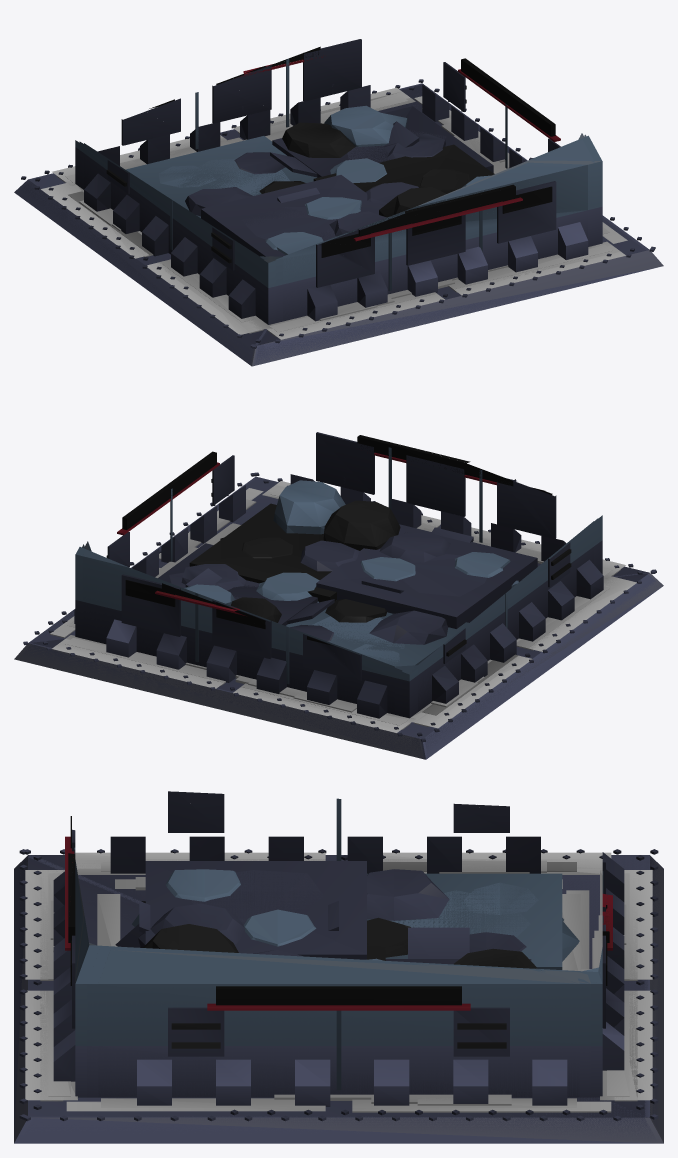
Rendered from veyran_fortified_bunker_heavily_damaged.glb.
The picture shows the model from 3 angles, top to bottom: view 1: azimuth 30°, elevation 25°; view 2: azimuth 150°, elevation 25°; view 3: azimuth 270°, elevation 25°; orthographic projection. The views are drawn at different scales.
Visible parts, largest first — view 1: body (×3); view 2: body (×3); view 3: body (×3).
Part boxes in pixels (<box>): body (×3): <box>14,39,663,366</box>; body (×3): <box>14,432,663,759</box>; body (×3): <box>14,791,663,1143</box>.
Bounding box in the file's own units: 7.4 × 2.09 × 7.4.
